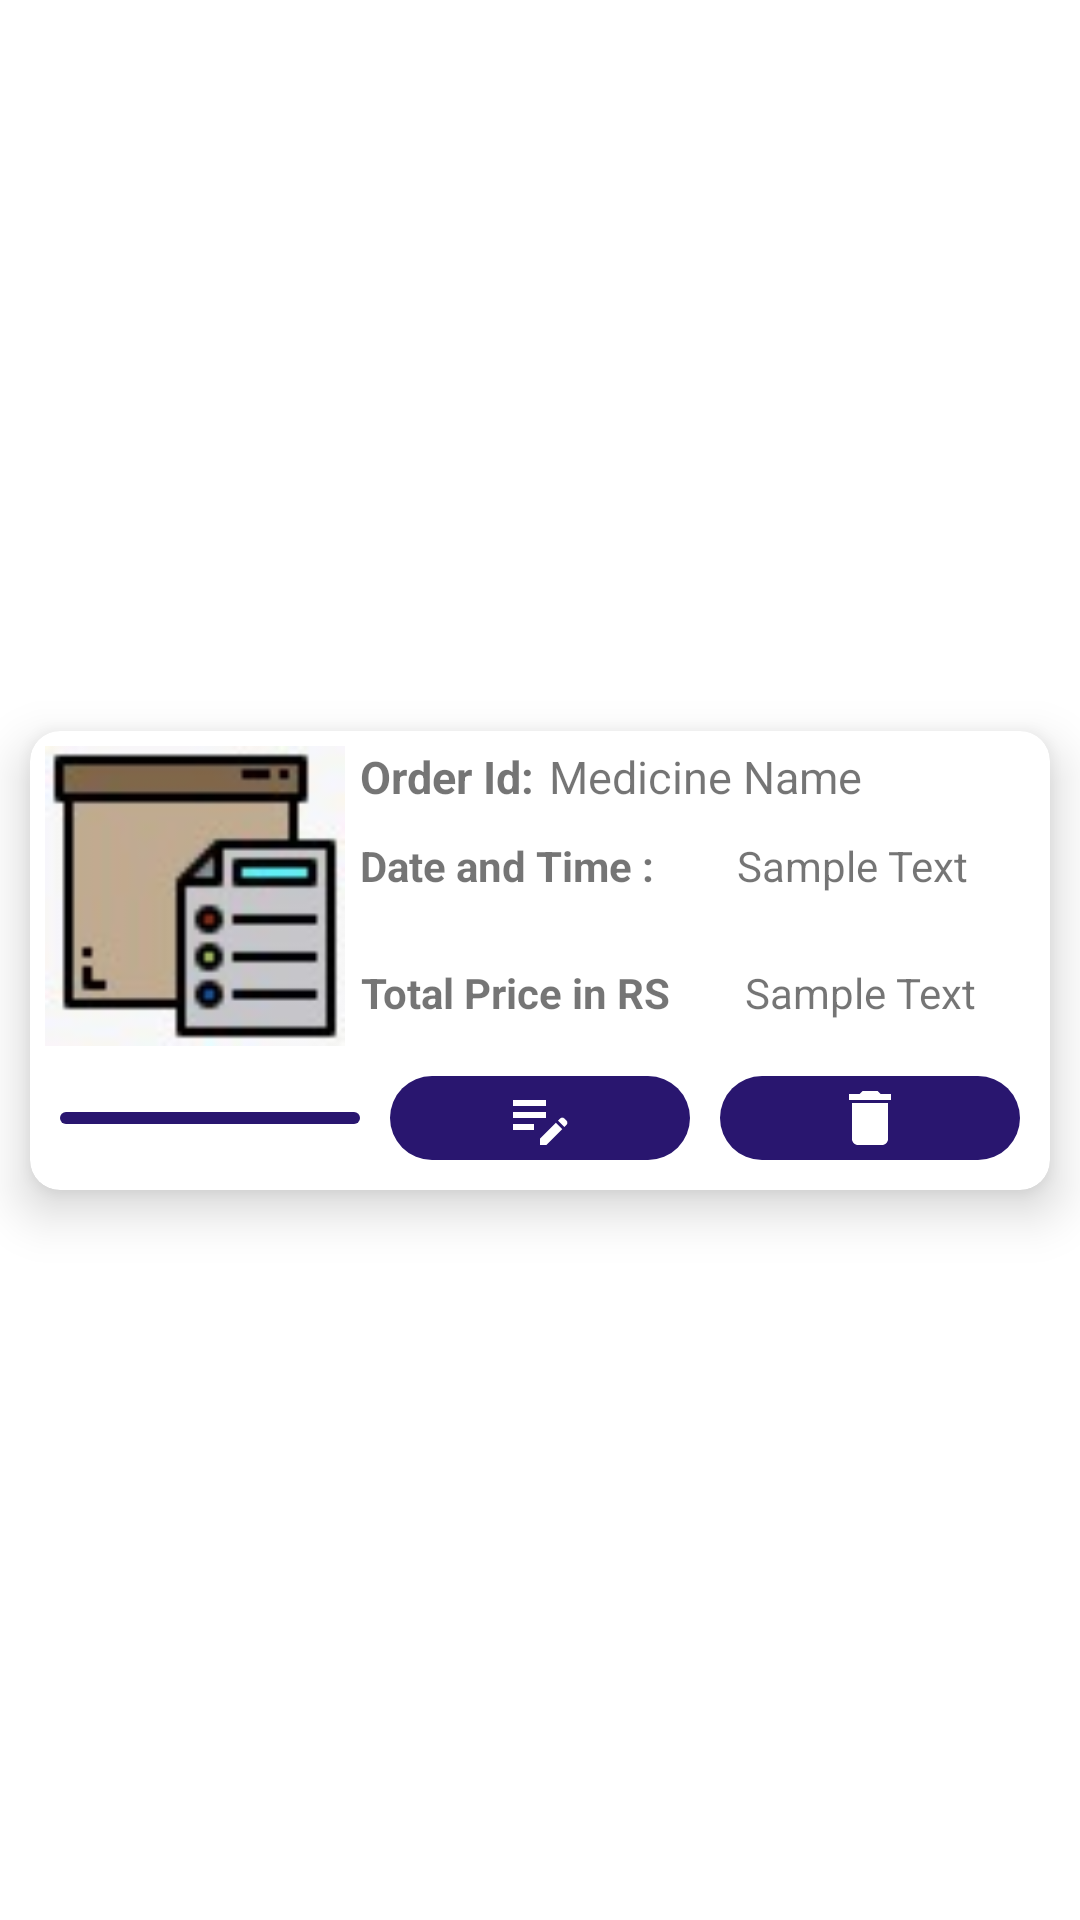

Locate icon controls on the screen. Image size 1080 x 1920, boxes as [x1=x1, y1=y1, x2=x2, y2=y2].
box: [x1=52, y1=753, x2=338, y2=1039]
delete: [x1=720, y1=1076, x2=1020, y2=1160]
edit: [x1=390, y1=1076, x2=690, y2=1160]
